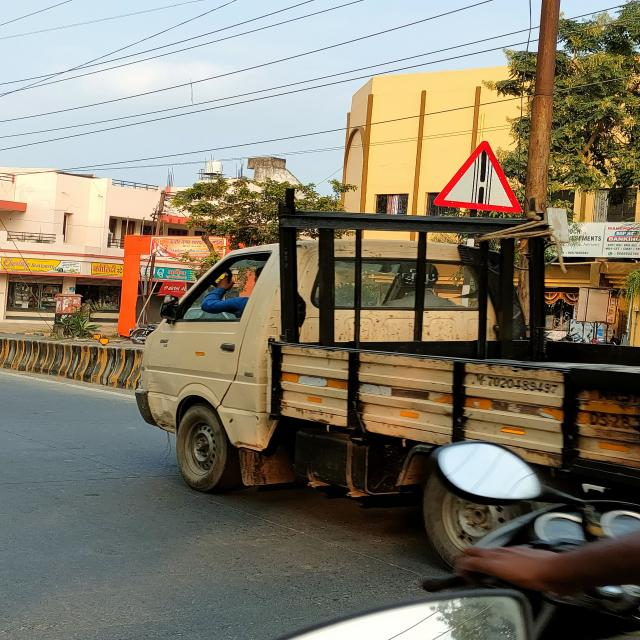ferry: (434, 140, 522, 213)
